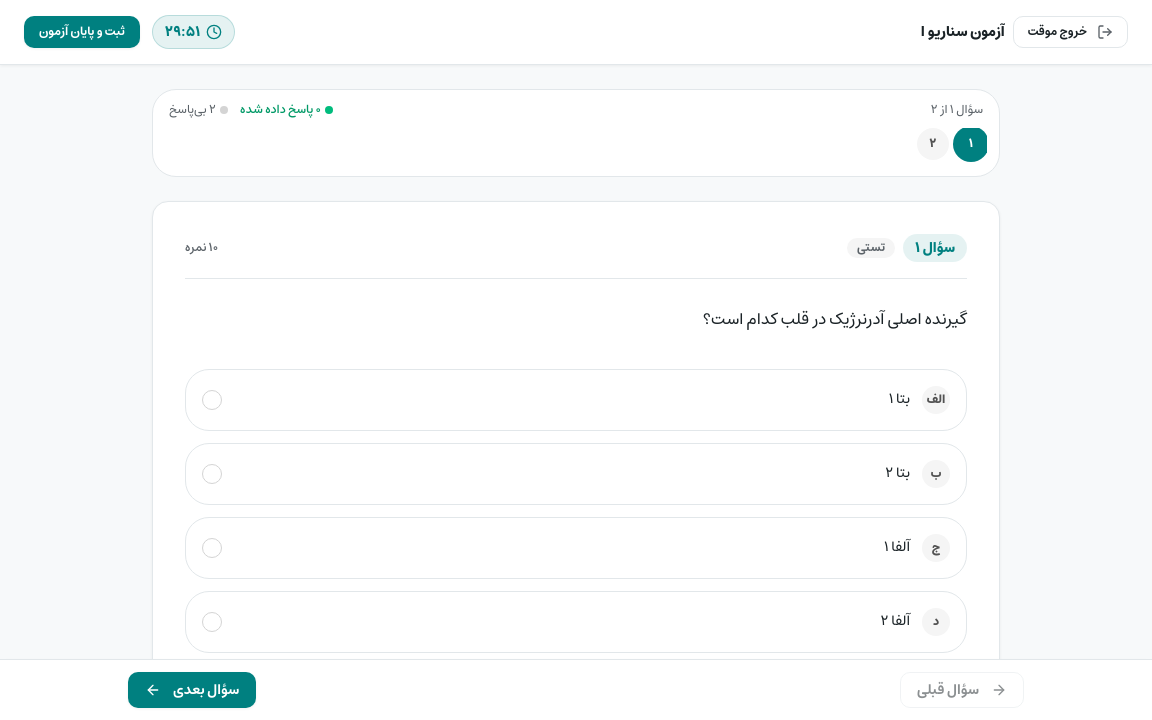
Test: Student Teacher Platform Exam Flow — Unit & Integration Tests › 11. Autosave & Submit Diagnostic Scenarios (A through J) › Scenario I: Single unresolved failure isolates only the failed question and displays count
The width and height of the screenshot is (1152, 720).
Click the text "بتا ۱". click: (899, 400)
box: x1=889 y1=388 x2=910 y2=411
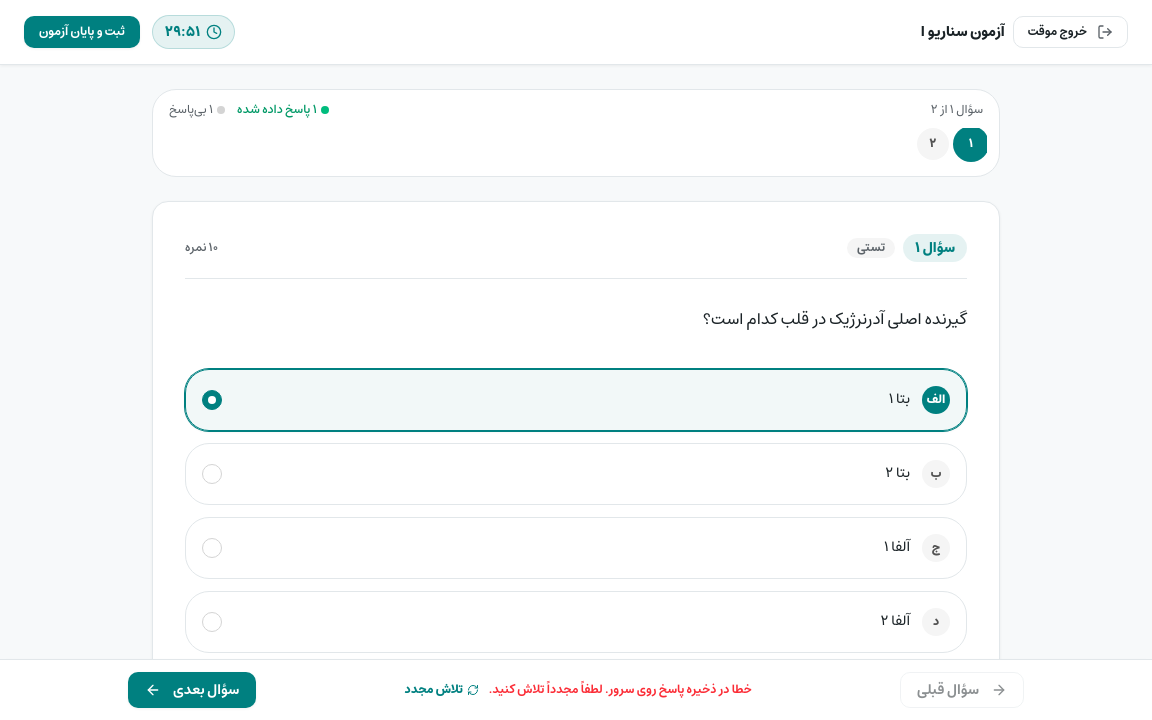
Now the text "خطا در ذخیره پاسخ روی سرور. لطفاً مجدداً تلاش کنید." is shown, box x1=489 y1=682 x2=752 y2=698
# Move to Q2 and answer Q2 (succeeds)
Click the button "سؤال بعدی". click: (192, 690)
box: x1=128 y1=672 x2=256 y2=708
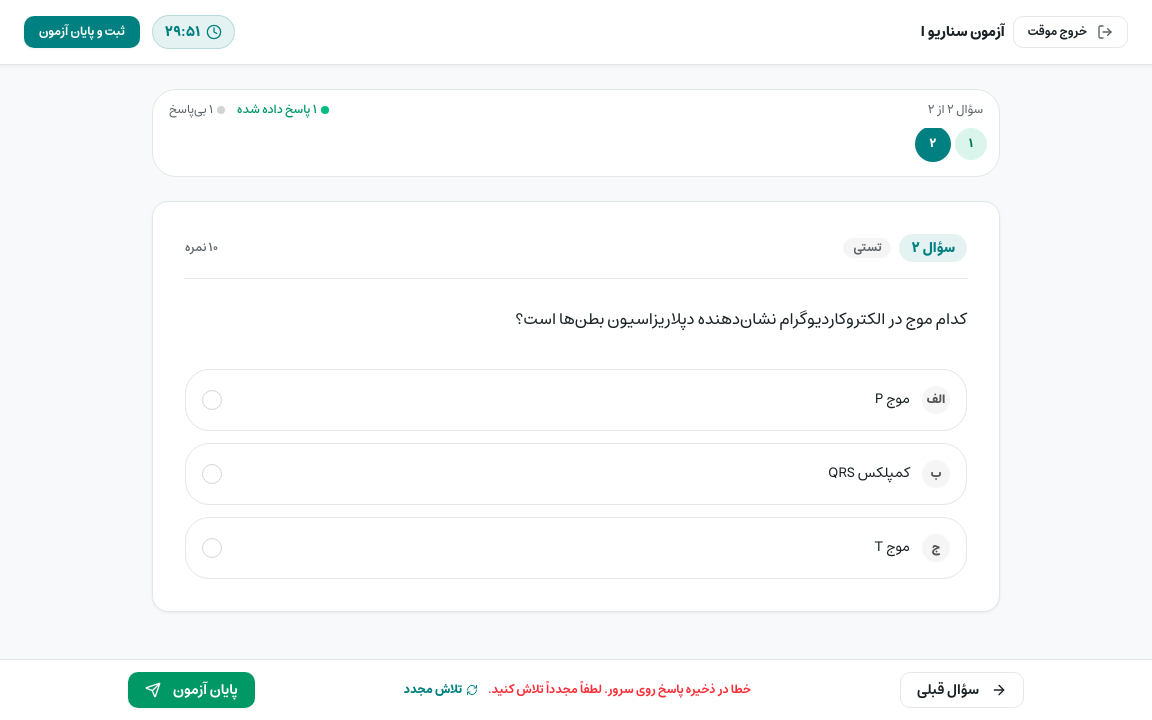
Click the text "کمپلکس QRS". click: (869, 474)
box: x1=828 y1=462 x2=910 y2=485
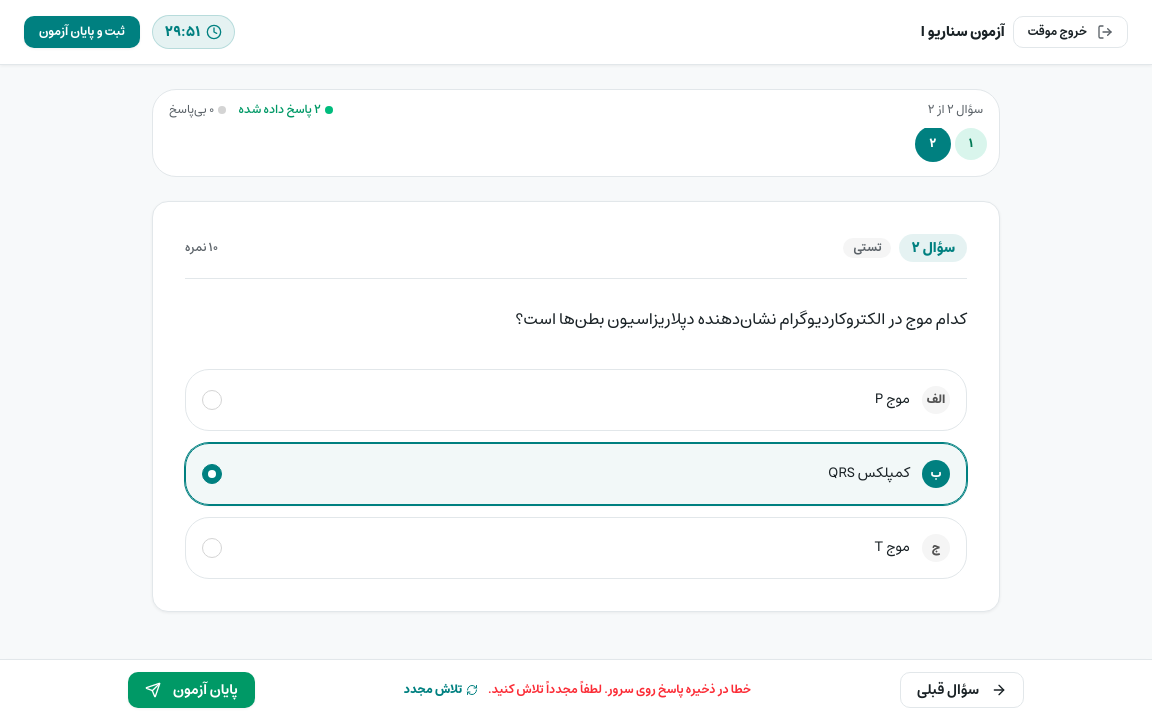
Now the text "خطا در ذخیره پاسخ روی سرور. لطفاً مجدداً تلاش کنید." is shown, box x1=488 y1=682 x2=751 y2=698
# Click submit
Click the button "ثبت و پایان آزمون". click: (82, 32)
box: x1=24 y1=16 x2=140 y2=48
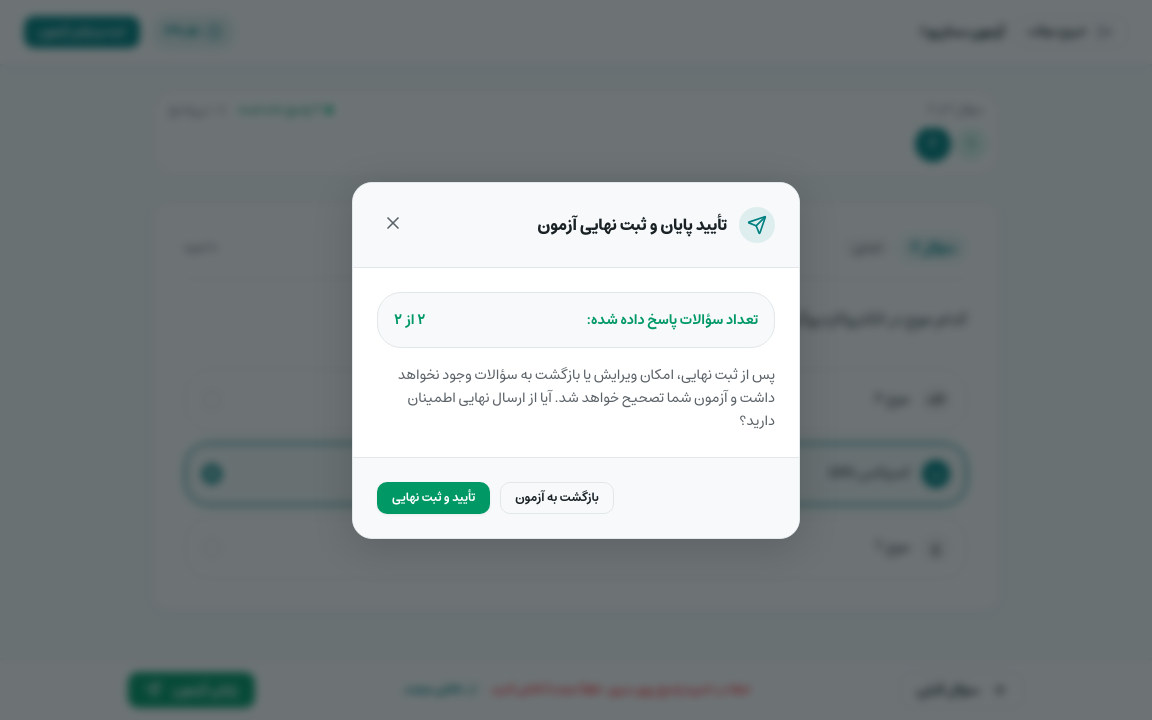
Click the button "تأیید و ثبت نهایی". click: (434, 498)
box: x1=377 y1=482 x2=490 y2=514
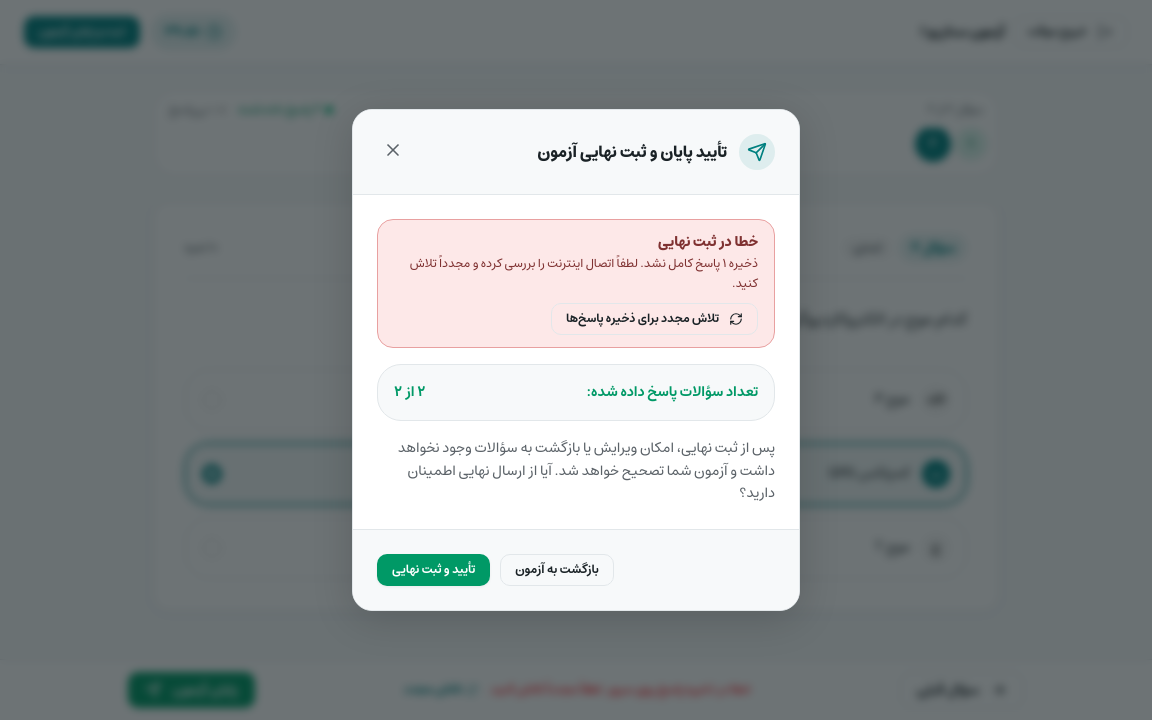
Now the text "ذخیره ۱ پاسخ کامل نشد" is shown, box x1=410 y1=253 x2=758 y2=294
